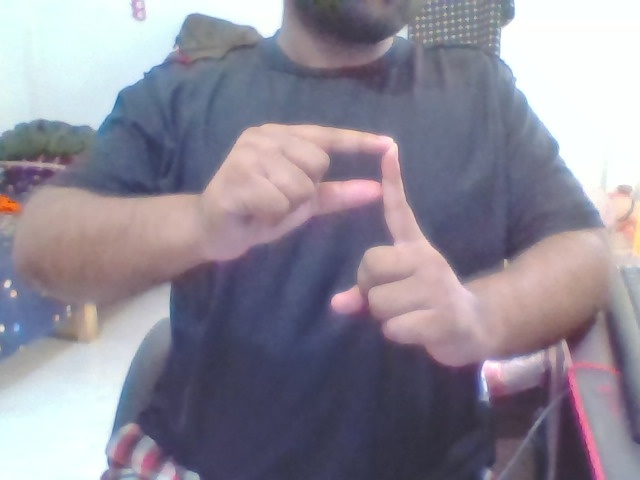P: (196, 97, 486, 388)
